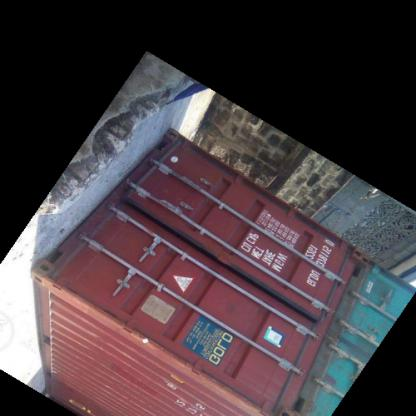Damage: (66, 185, 138, 255), (178, 362, 272, 414), (105, 315, 188, 370)
